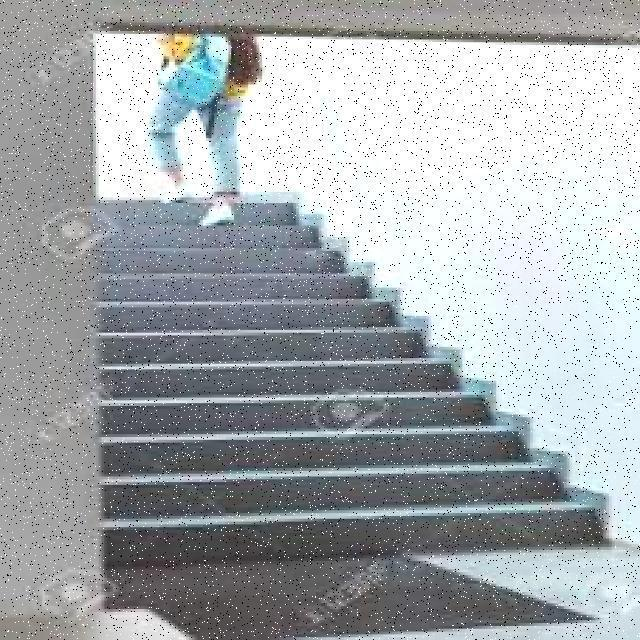Stairs: (77, 173, 568, 507)
